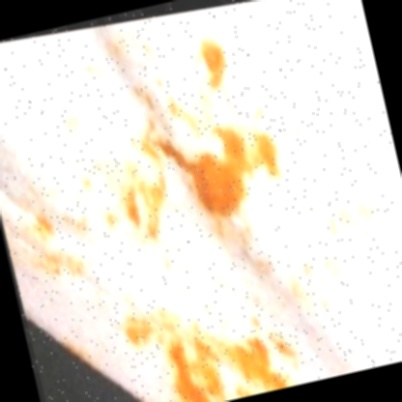kimchi: (22, 198, 129, 289), (158, 127, 258, 222), (212, 203, 281, 296), (109, 166, 174, 250), (132, 302, 221, 360), (91, 25, 168, 91), (63, 114, 114, 207), (157, 74, 216, 138), (229, 333, 285, 398), (238, 125, 291, 187), (196, 32, 243, 90), (325, 207, 378, 251), (167, 350, 211, 402), (287, 266, 336, 311), (203, 345, 233, 402), (132, 77, 160, 115)
